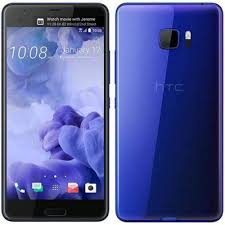htc: (112, 1, 225, 225), (1, 1, 112, 223)
